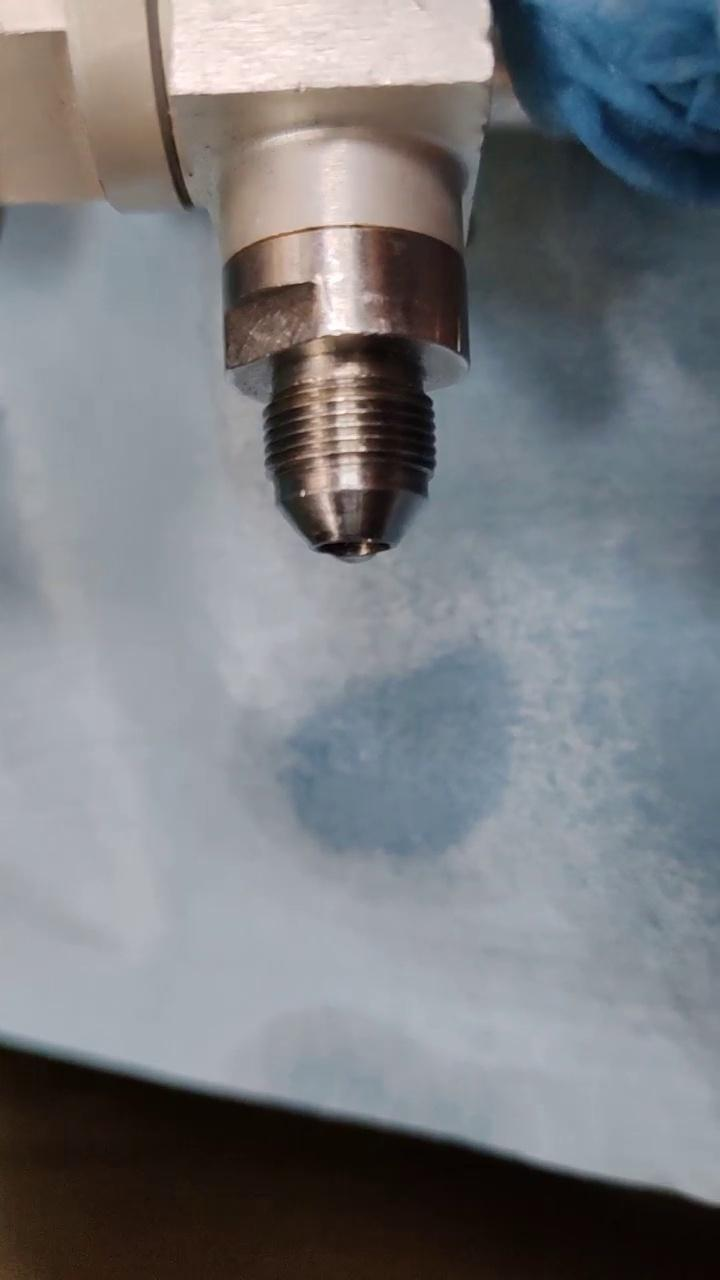water drop: (336, 544, 373, 564)
